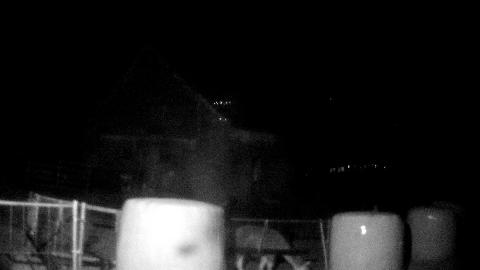sheep: (235, 225, 312, 270)
